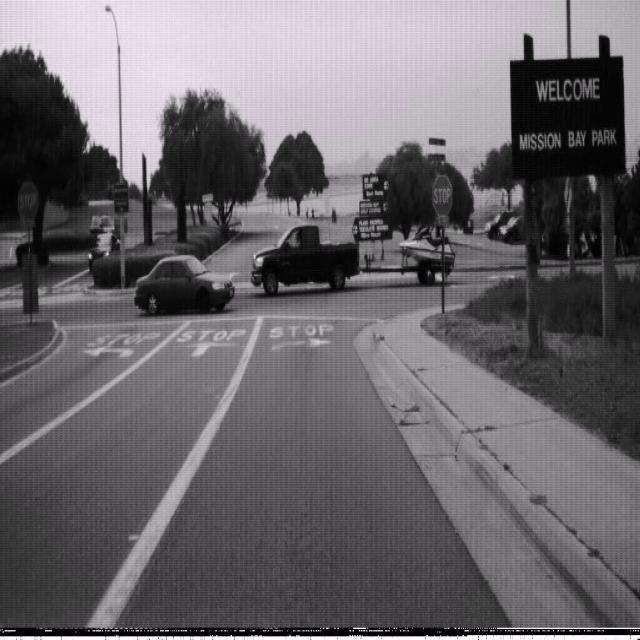stop: (17, 179, 39, 223), (432, 173, 452, 218)
